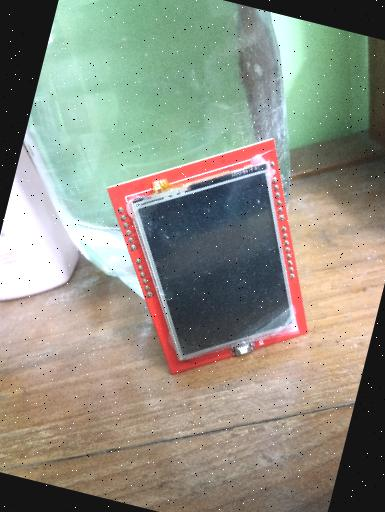Display: (64, 98, 354, 408)
